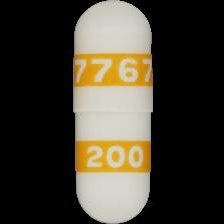69189-1517: (0, 0, 224, 224)
